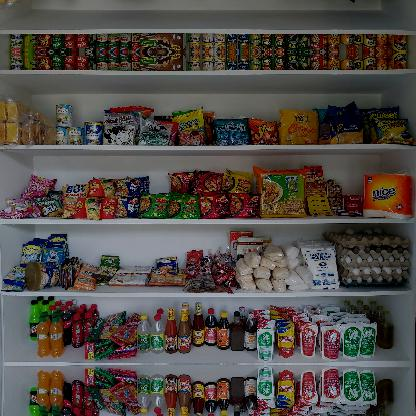Lady-s-Choice: (24, 261, 62, 291)
